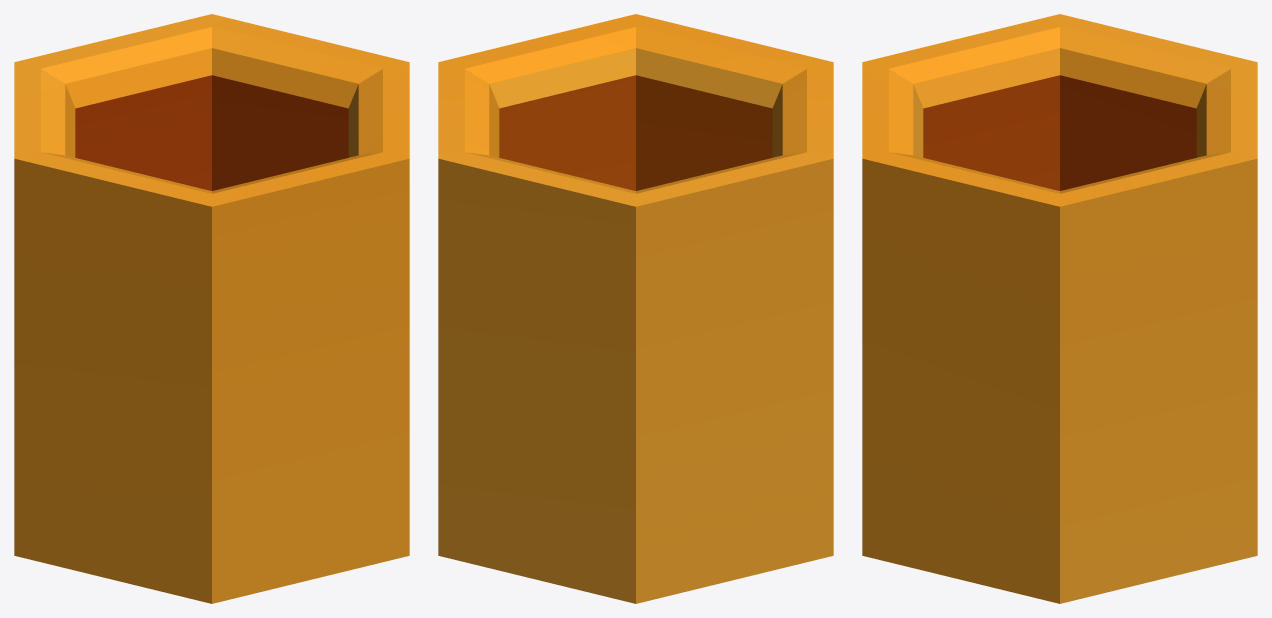
File: CellClosed.fbx
The picture shows the model from 3 angles, left to right: view 1: azimuth 30°, elevation 25°; view 2: azimuth 150°, elevation 25°; view 3: azimuth 270°, elevation 25°; orthographic projection.
Parts seen in each view (by area): view 1: CellOpen_LOD0; view 2: CellOpen_LOD0; view 3: CellOpen_LOD0.
Boxes of the visible parts, bbox=[...] form: CellOpen_LOD0: bbox=[14, 14, 409, 603]; CellOpen_LOD0: bbox=[438, 14, 833, 603]; CellOpen_LOD0: bbox=[862, 14, 1257, 603].
Size of what is drawn, in the model's own units: 59.51 by 57.15 by 51.54.
